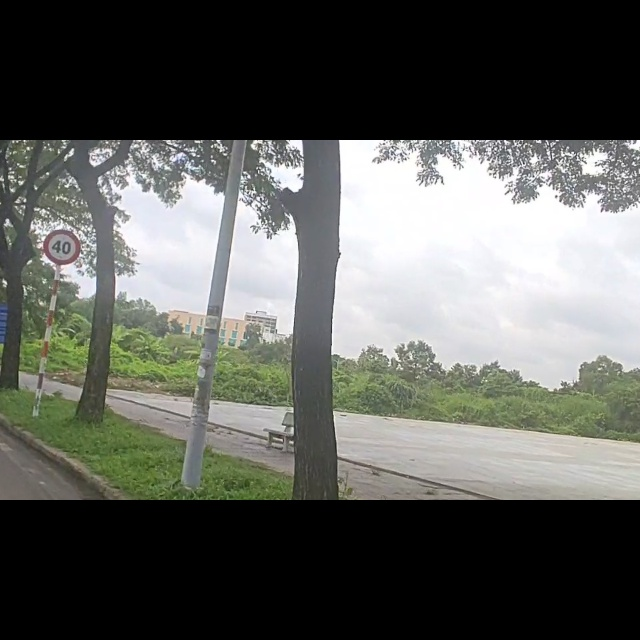Tốc độ tối đa cho phép 40km/h: (42, 228, 80, 263)
